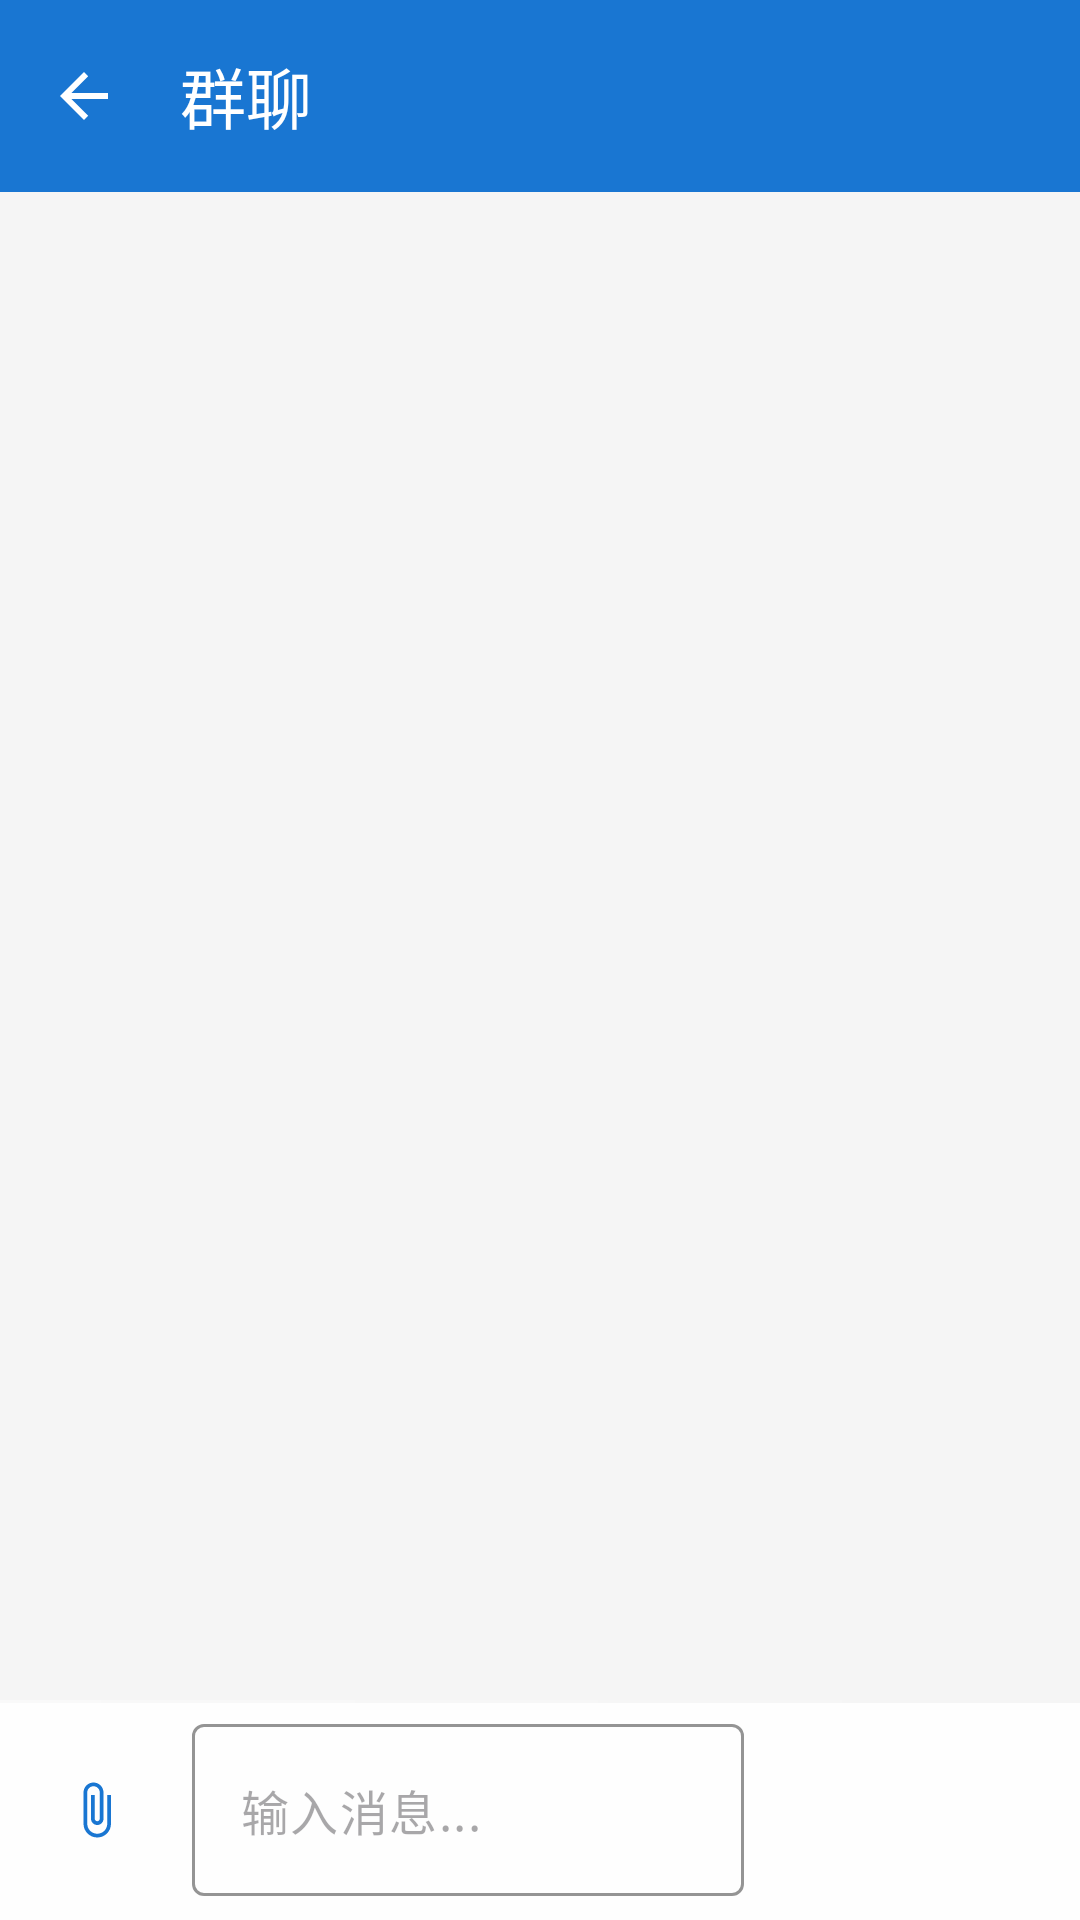

Where to tap for icons on this 1080×1920 app screen, as [x,y]:
添加文件: [97,1810]
